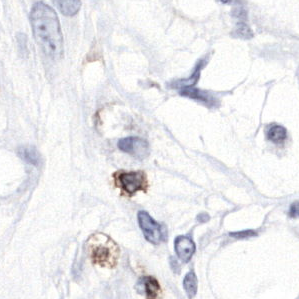Lymphocyte: (116, 167, 149, 194)
